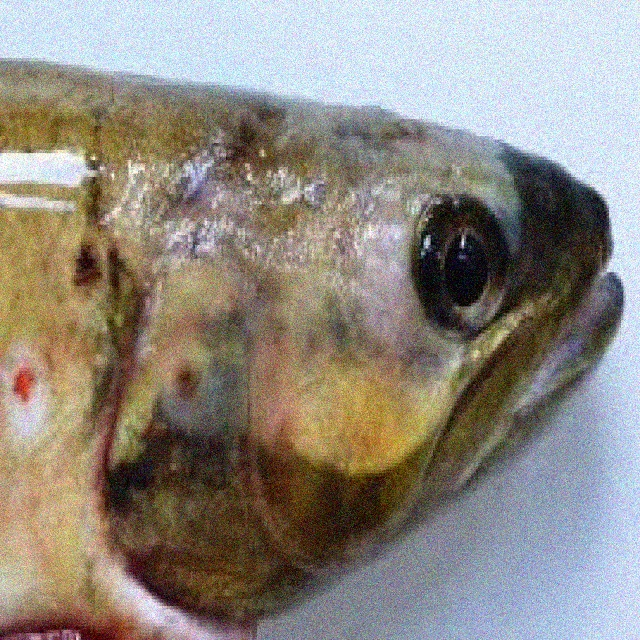EUS Disease: (1, 51, 621, 640), (3, 187, 304, 564)
